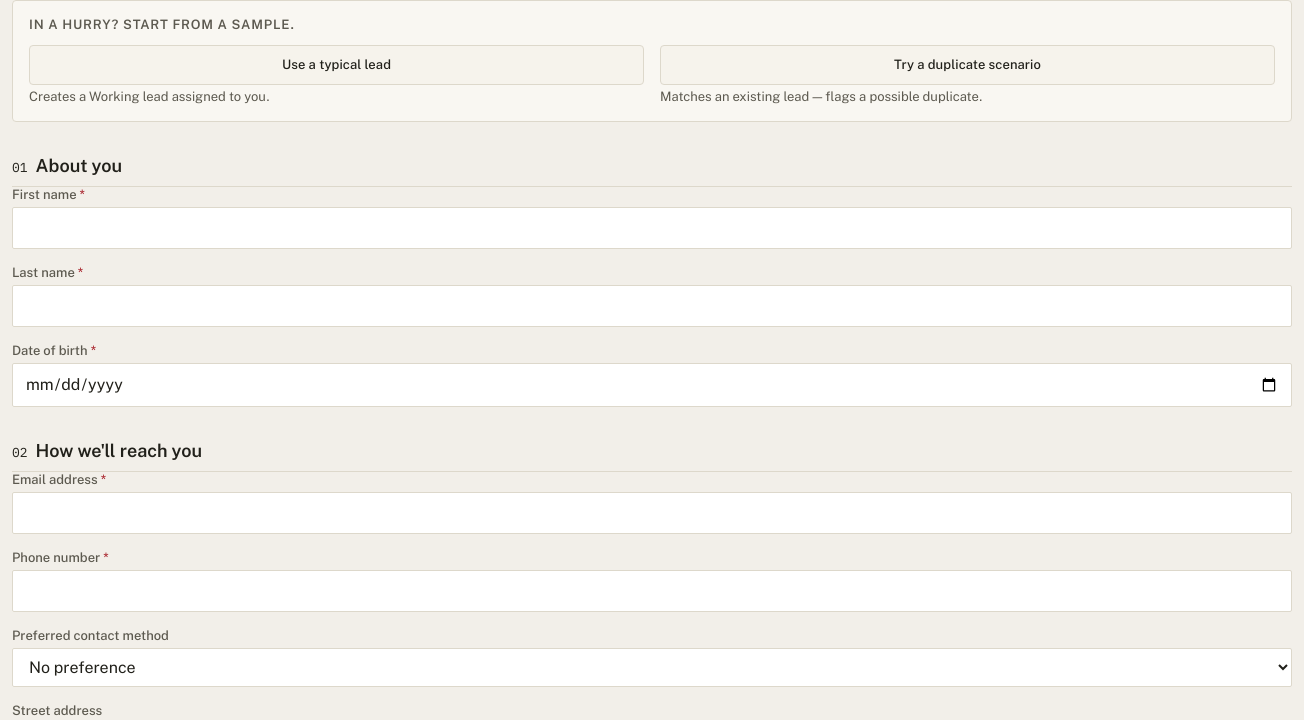
AgentIntakeForm submission › creates the lead and shows the created-lead panel with the masked lead
Type "Margaret" into the field with id "agent-intake-first-name" at (652, 228), box x1=12 y1=207 x2=1292 y2=249
Type "Chen" into the field with id "agent-intake-last-name" at (652, 306), box x1=12 y1=285 x2=1292 y2=327
Type "1956-03-12" into the date field with id "agent-intake-date-of-birth" at (652, 385), box x1=12 y1=363 x2=1292 y2=407
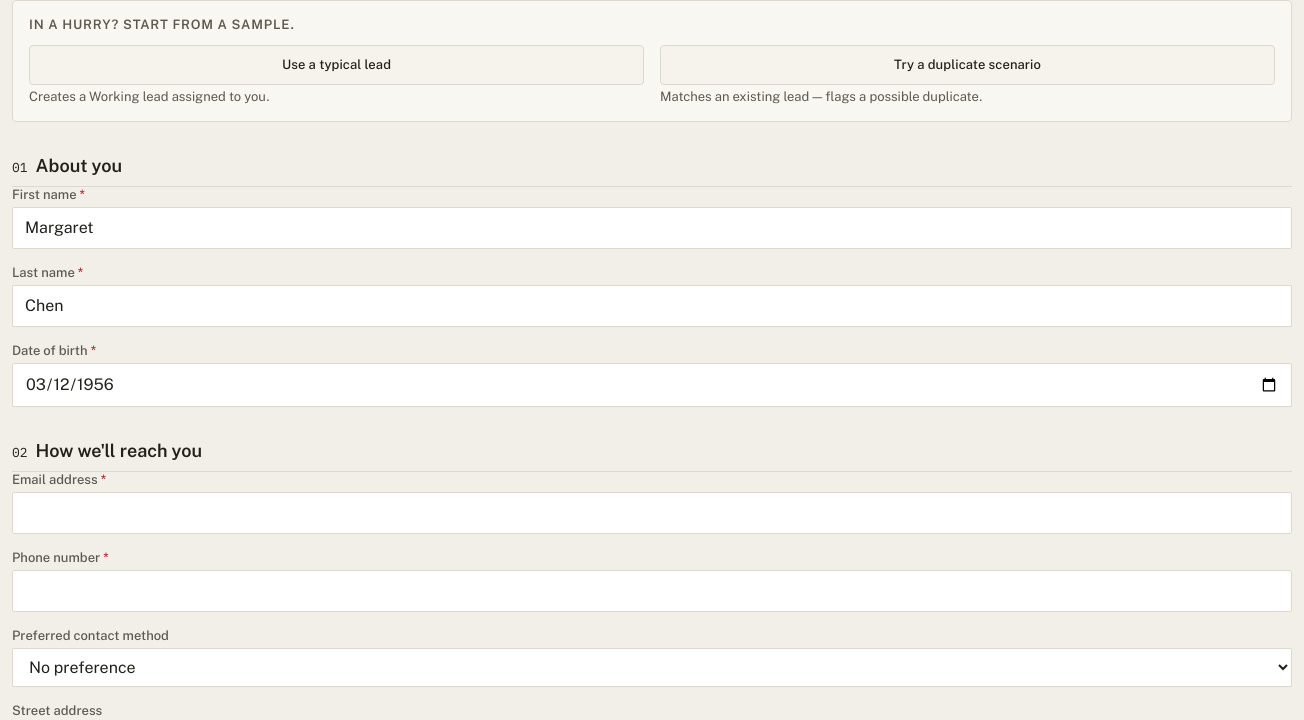
Type "margaret.chen@example.com" into the field with id "agent-intake-email" at (652, 513), box x1=12 y1=492 x2=1292 y2=534
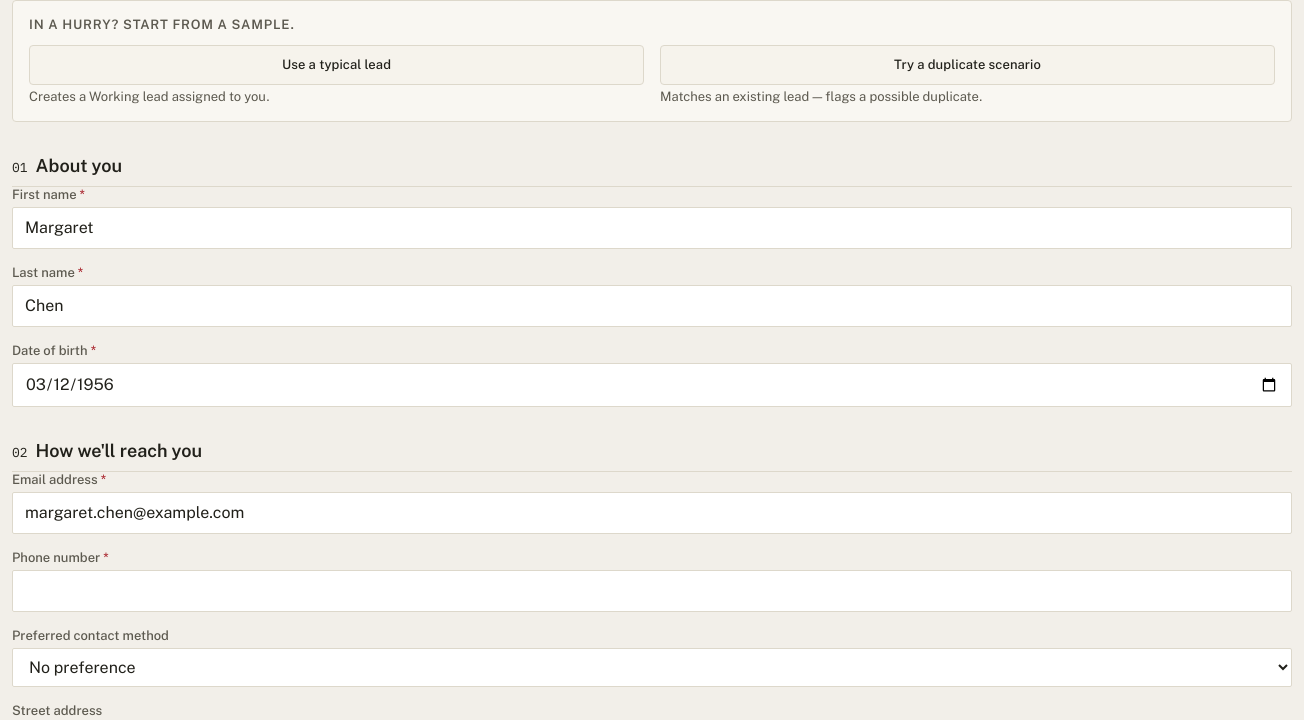
Type "(305) 555-0149" into the field with id "agent-intake-phone" at (652, 591), box x1=12 y1=570 x2=1292 y2=612
(page scrolled)
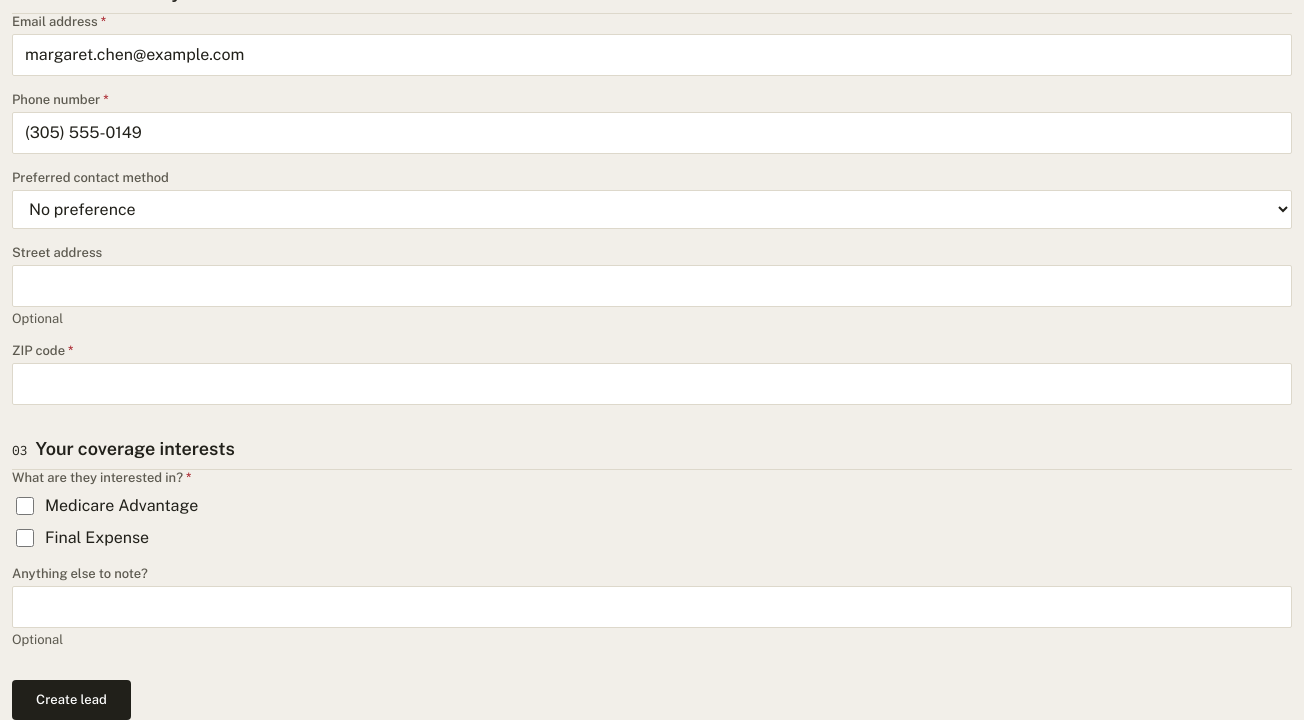
Type "33134" into the field with id "agent-intake-zip-code" at (652, 384), box x1=12 y1=363 x2=1292 y2=405
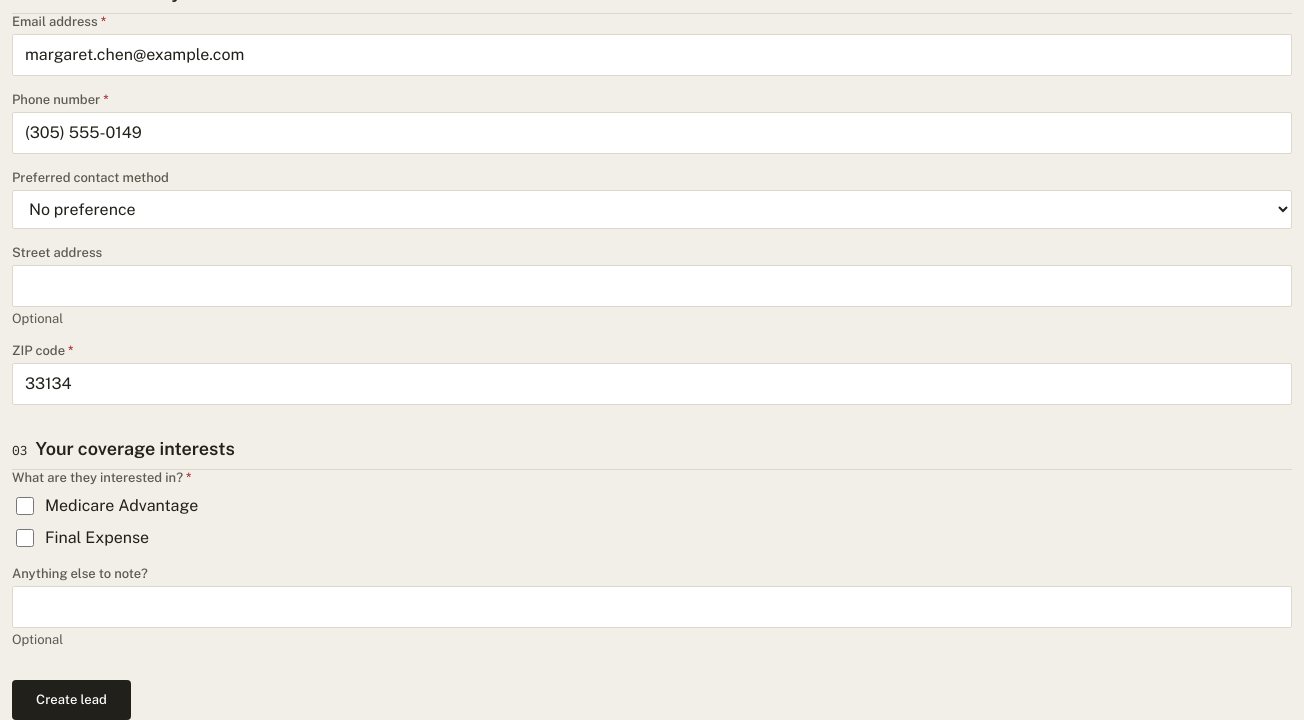
Click the checkbox with id "agent-intake-product-lines-option-medicare_advantage" at (25, 506), box x1=16 y1=497 x2=34 y2=515
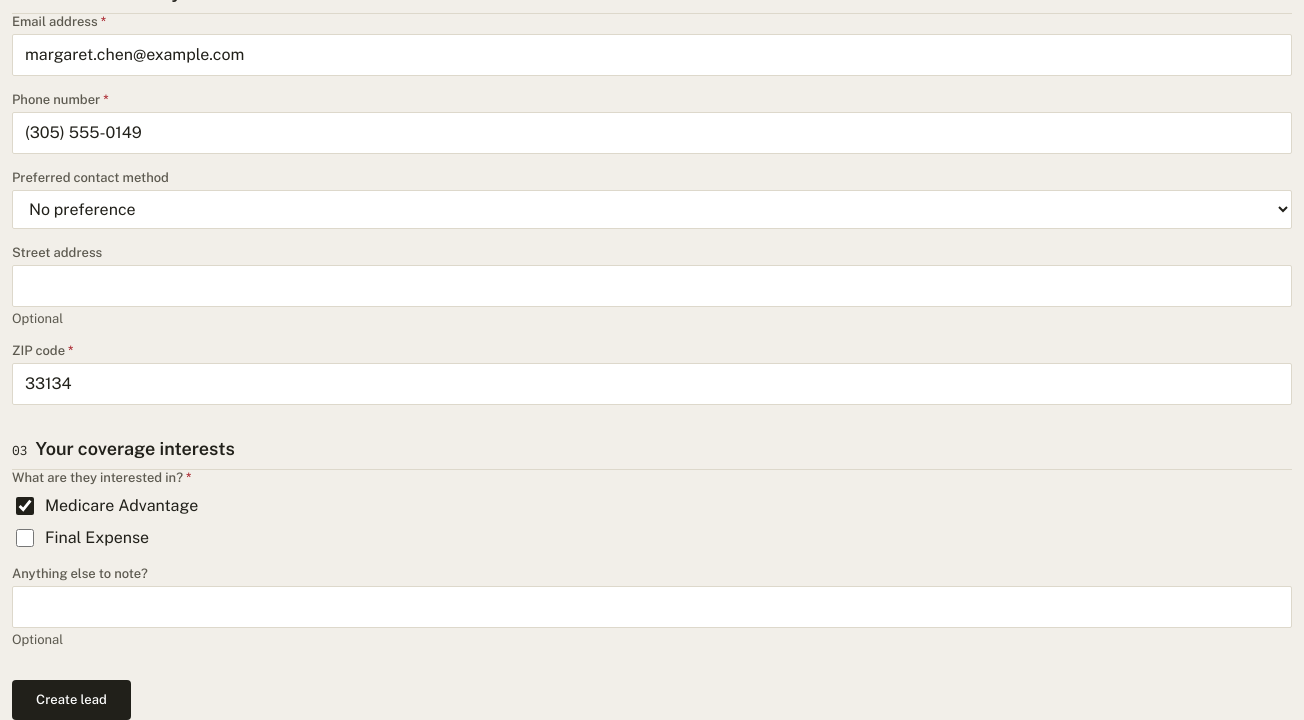
Click the button with id "agent-intake-submit" at (72, 700), box x1=12 y1=680 x2=131 y2=719
(page scrolled)
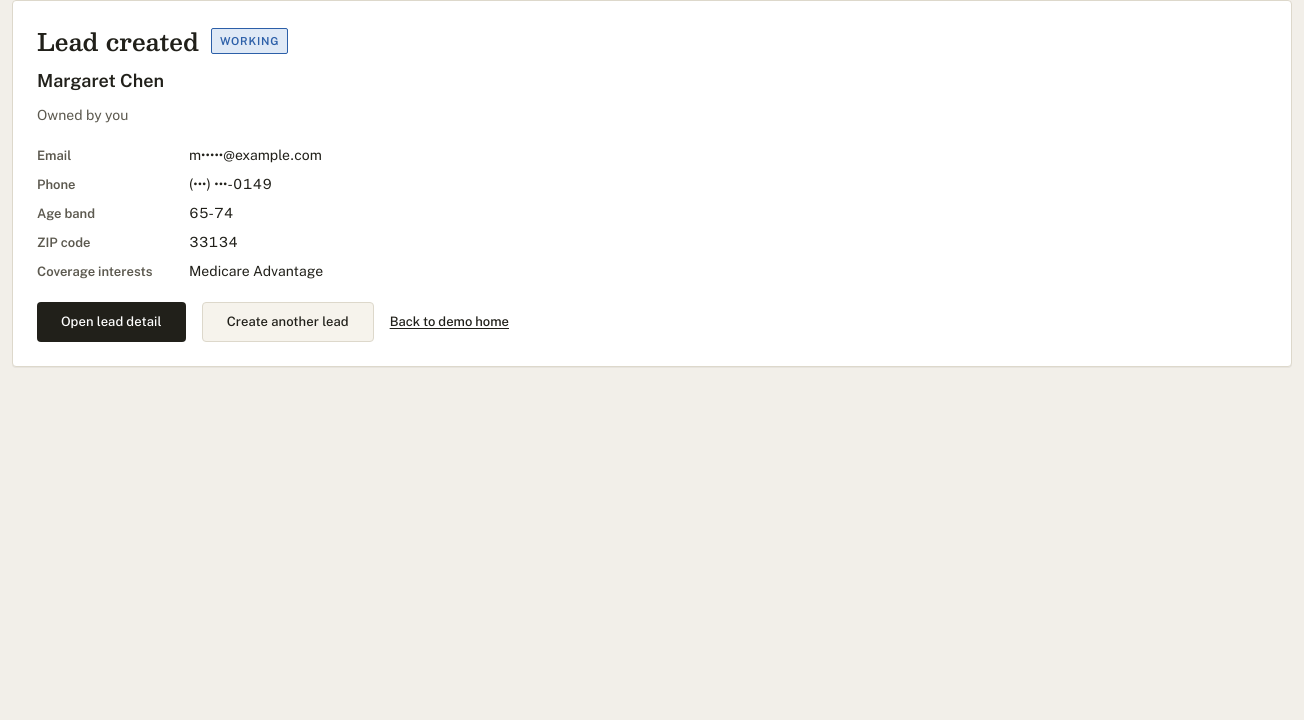
Expected: the message with id "agent-intake-created" is shown, x1=12 y1=0 x2=1292 y2=367
Expected: the text with id "agent-intake-created-name" reads "Margaret Chen", x1=37 y1=70 x2=164 y2=91
Expected: the text with id "agent-intake-created-email-value" reads "m•••••@example.com", x1=189 y1=147 x2=322 y2=163
